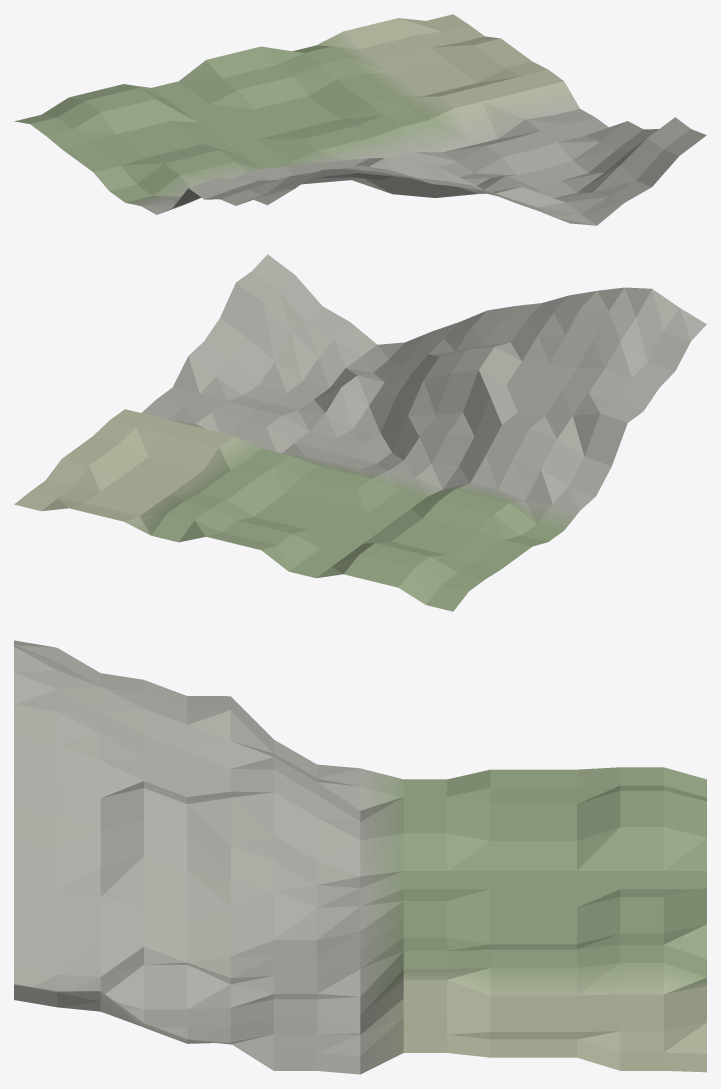
3 views of the same model, one above another, from view 1: azimuth 30°, elevation 25°; view 2: azimuth 150°, elevation 25°; view 3: azimuth 270°, elevation 25° (orthographic). The views are drawn at different scales.
Bounding box in the file's own units: 32 × 9.46 × 32.
